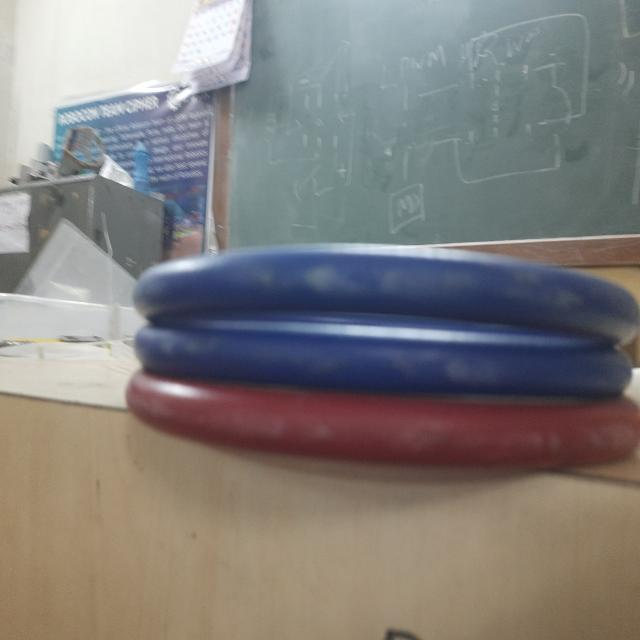daire: (148, 382, 633, 470), (140, 253, 630, 332), (146, 342, 640, 390)
